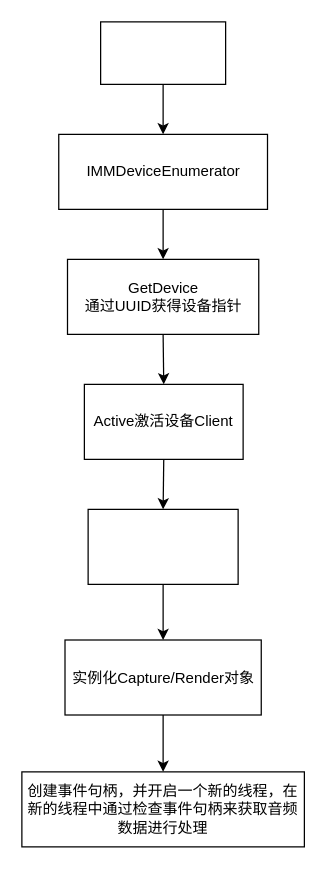
Image size: 326x869. Some labels were removed from this diagram. Here are the shapes that lost their labels. From the top down, the centre of each, then its label:
At pixel 162 52: "CoInitializeEx 初始化COM组件".
At pixel 162 546: "初始化设备Client".
